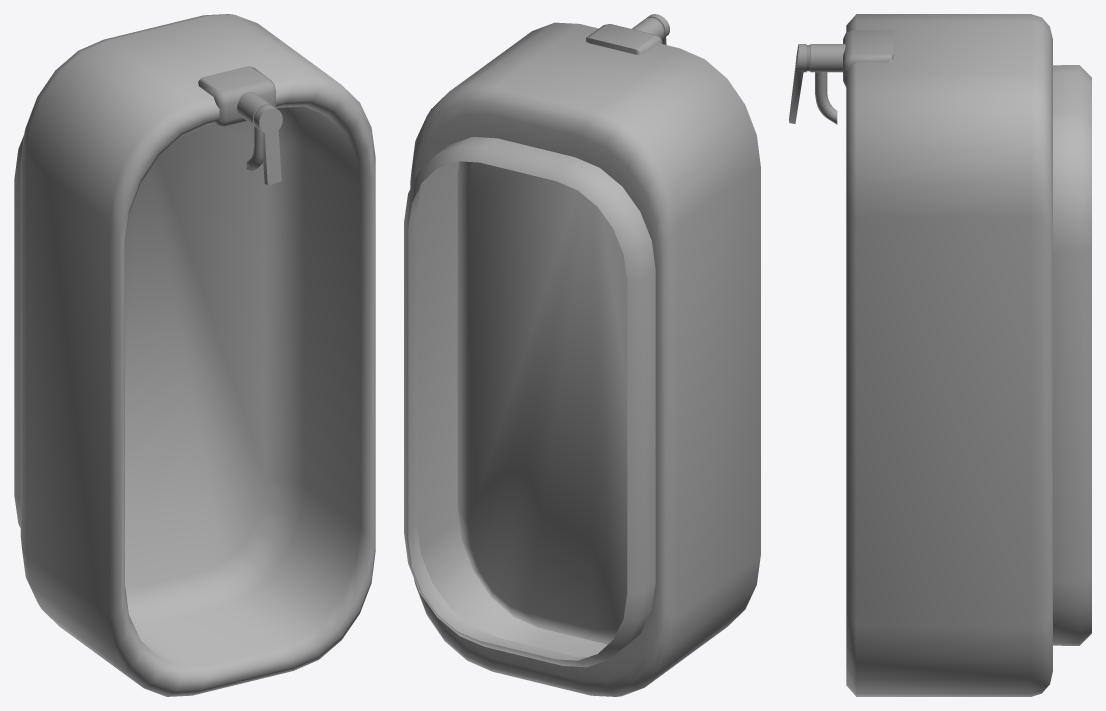
File: Bathtub.fbx
The picture shows the model from 3 angles, left to right: view 1: azimuth 30°, elevation 25°; view 2: azimuth 150°, elevation 25°; view 3: azimuth 270°, elevation 25°; orthographic projection. The views are drawn at different scales.
Visible parts, largest first — view 1: Bathroom_Bathtub; view 2: Bathroom_Bathtub; view 3: Bathroom_Bathtub.
Part boxes in pixels (x1=…): Bathroom_Bathtub: x1=14, y1=14, x2=375, y2=696; Bathroom_Bathtub: x1=404, y1=14, x2=760, y2=696; Bathroom_Bathtub: x1=789, y1=14, x2=1091, y2=696.
Size of the model in its own units: 118 by 254 by 112.
Materials: 1 (1 with a texture image).
